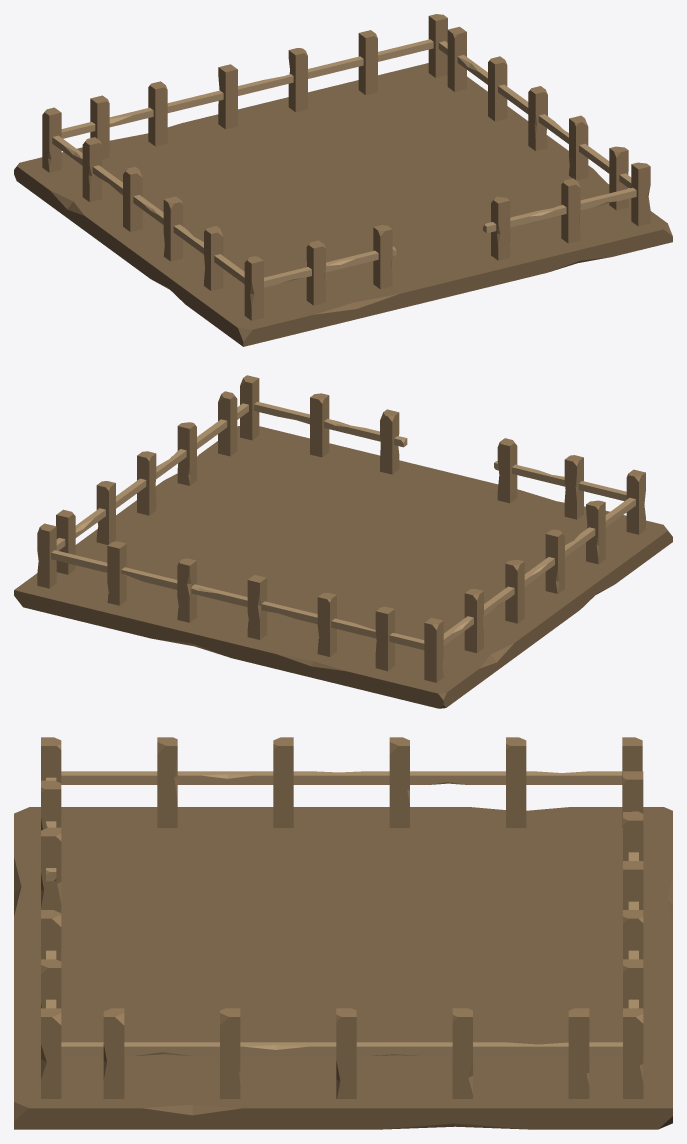
The model's file is SM_Env_Stall_05.fbx.
3 views of the same model, one above another, from view 1: azimuth 30°, elevation 25°; view 2: azimuth 150°, elevation 25°; view 3: azimuth 270°, elevation 25° (orthographic). The views are drawn at different scales.
Visible parts, largest first — view 1: SM_Env_Stall_05; view 2: SM_Env_Stall_05; view 3: SM_Env_Stall_05.
Part boxes in pixels (box(x1,y1,x2,y2)): SM_Env_Stall_05: box(14, 14, 672, 346); SM_Env_Stall_05: box(14, 375, 672, 708); SM_Env_Stall_05: box(14, 737, 672, 1129).
Bounding box in the file's own units: 393 × 63.07 × 364.
1 material, 1 textured.
